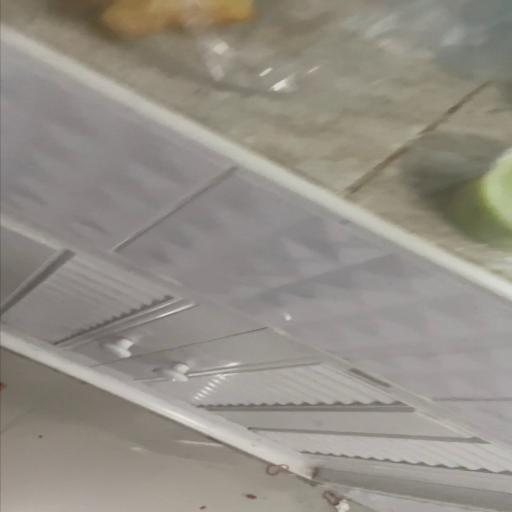street_golden_defect: (9, 0, 510, 350)
